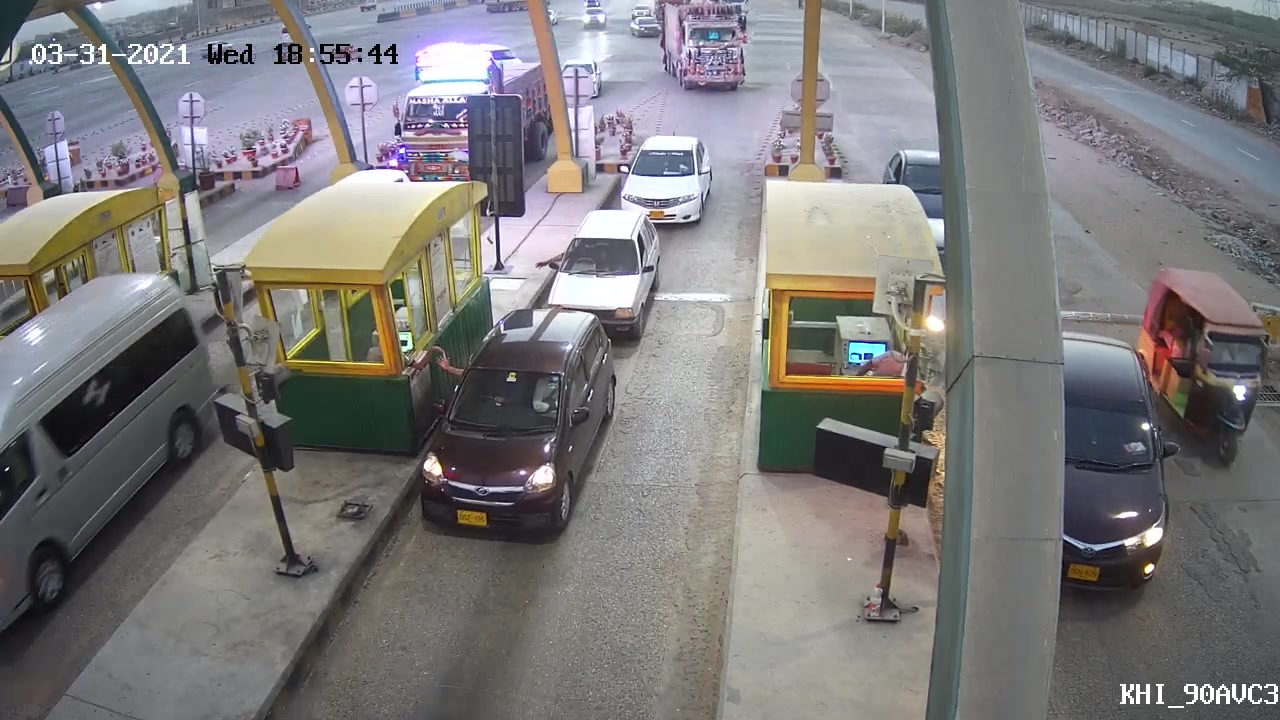F1: (418, 306, 617, 544)
